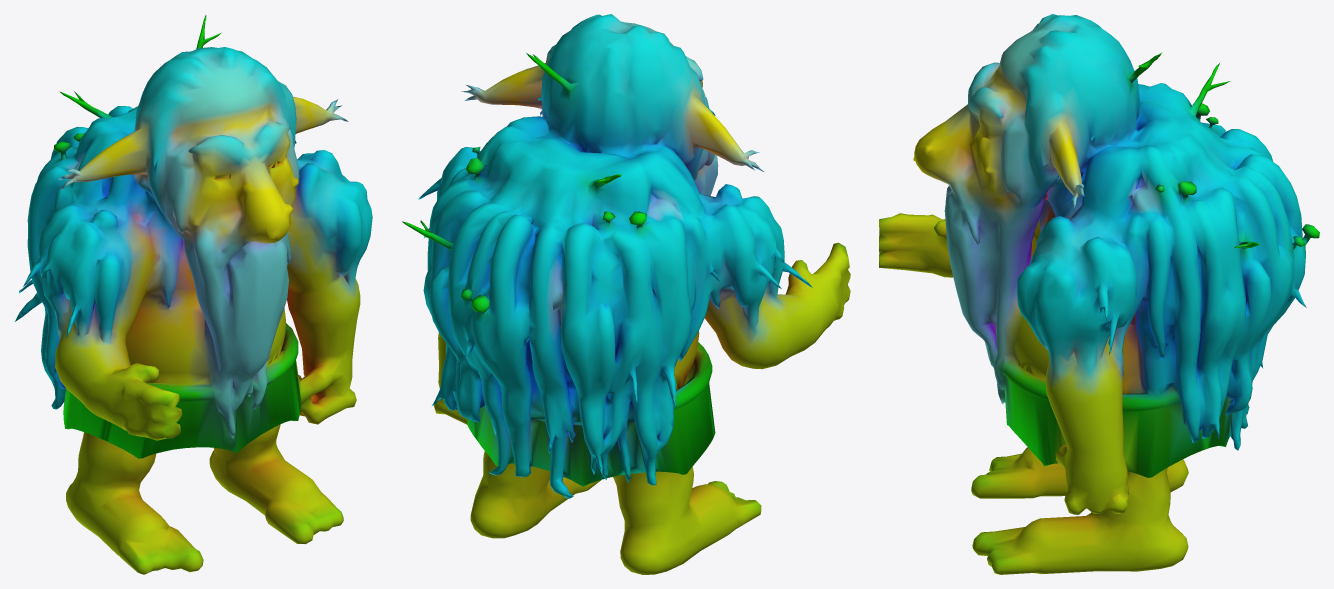
File: troll-lod2.glb
3 renders of one model, left to right at view 1: azimuth 30°, elevation 25°; view 2: azimuth 150°, elevation 25°; view 3: azimuth 270°, elevation 25°, orthographic. The views are drawn at different scales.
Parts seen in each view (by area): view 1: TrollLOD2; view 2: TrollLOD2; view 3: TrollLOD2.
Boxes of the visible parts, <box> form: TrollLOD2: <box>15,15,372,574</box>; TrollLOD2: <box>402,14,850,574</box>; TrollLOD2: <box>879,14,1319,574</box>.
Size of the model in its own units: 0.748 by 0.9855 by 0.7842.
